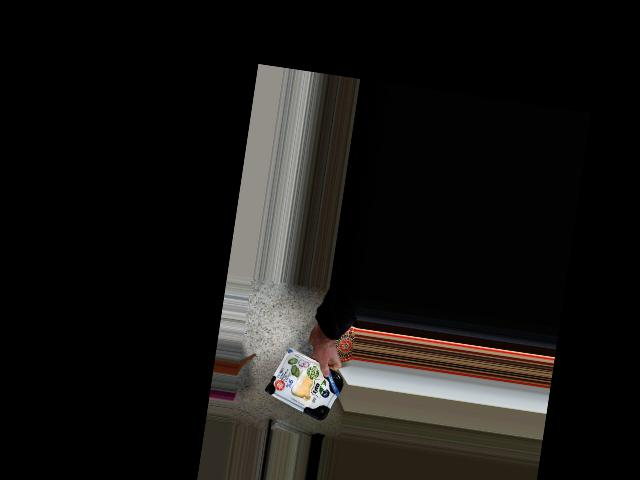cheese: (270, 354, 338, 413)
